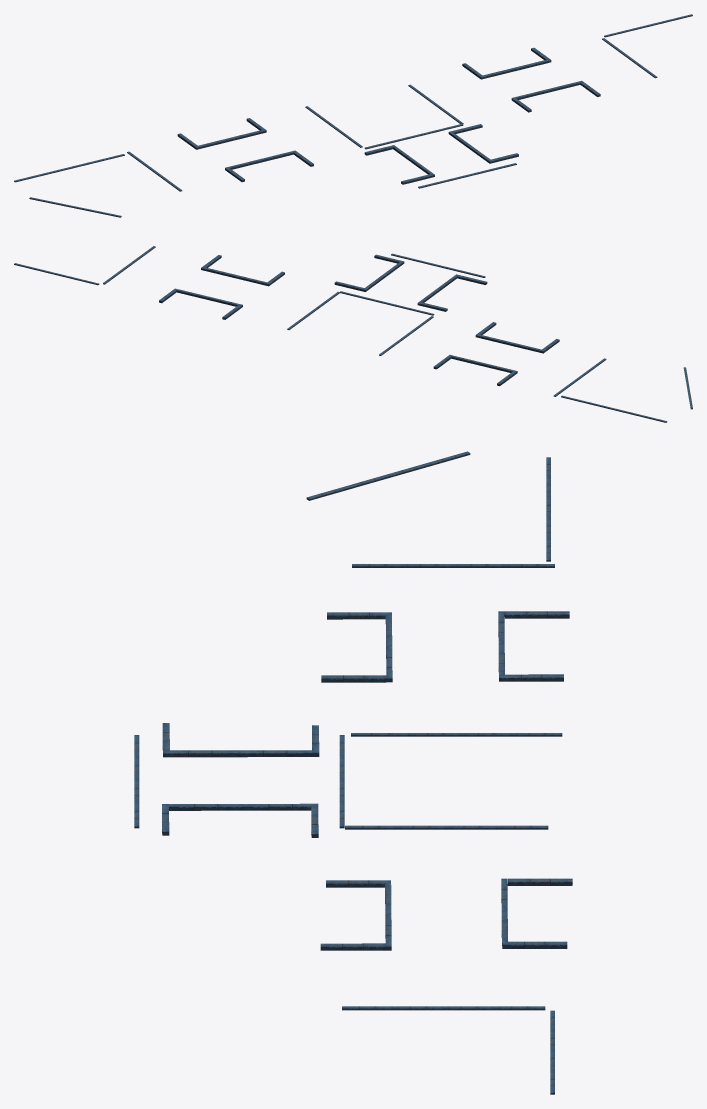
The model's file is xiaowujian_group2.fbx.
3 renders of one model, top to bottom at view 1: azimuth 30°, elevation 25°; view 2: azimuth 150°, elevation 25°; view 3: azimuth 270°, elevation 25°, orthographic. The views are drawn at different scales.
Parts seen in each view (by area): view 1: xiaowujian_group2; view 2: xiaowujian_group2; view 3: xiaowujian_group2.
Part boxes in pixels (x1,y1,x2,y2): xiaowujian_group2: (14,14,692,217); xiaowujian_group2: (14,246,692,422); xiaowujian_group2: (134,451,572,1094).
Size of the model in its own units: 10818 by 43.31 by 3123.
Materials: 1 (1 with a texture image).
